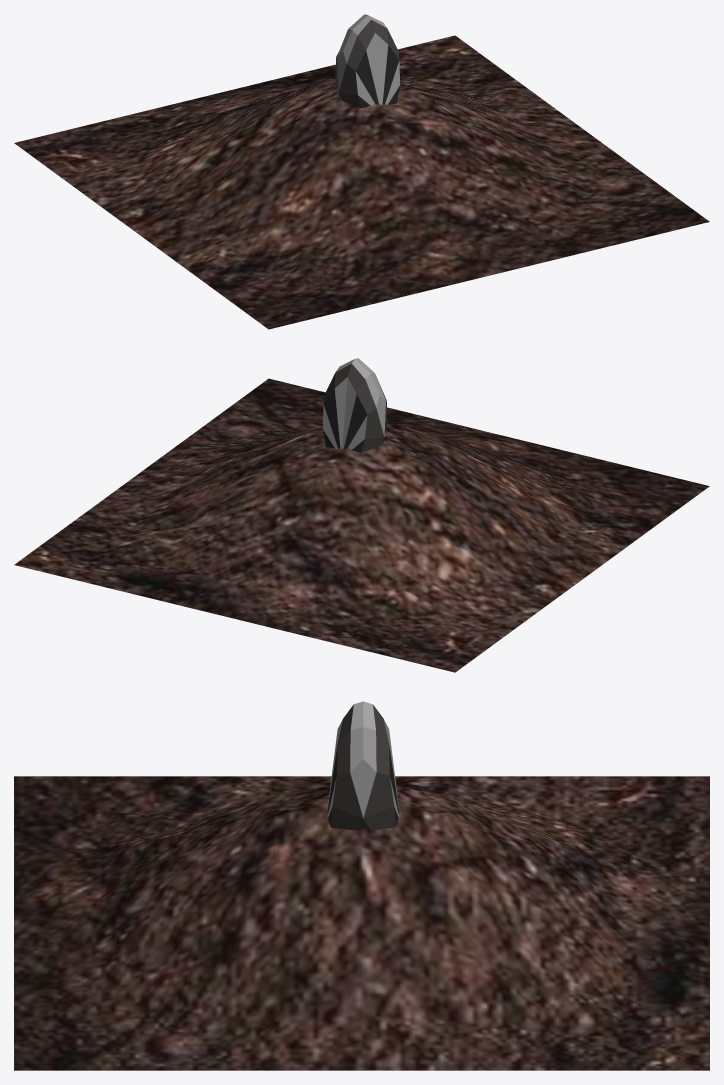
File: dirt mound.fbx
The picture shows the model from 3 angles, top to bottom: view 1: azimuth 30°, elevation 25°; view 2: azimuth 150°, elevation 25°; view 3: azimuth 270°, elevation 25°; orthographic projection. The views are drawn at different scales.
Parts seen in each view (by area): view 1: Plane, Cube; view 2: Plane, Cube; view 3: Plane, Cube.
Part boxes in pixels (box(x1,y1,x2,y2)): Plane: box(14, 35, 709, 329); Cube: box(335, 14, 400, 108); Plane: box(14, 378, 709, 672); Cube: box(322, 358, 387, 452); Plane: box(14, 776, 709, 1070); Cube: box(327, 701, 399, 830).
Bounding box in the file's own units: 200 × 71.75 × 200.
